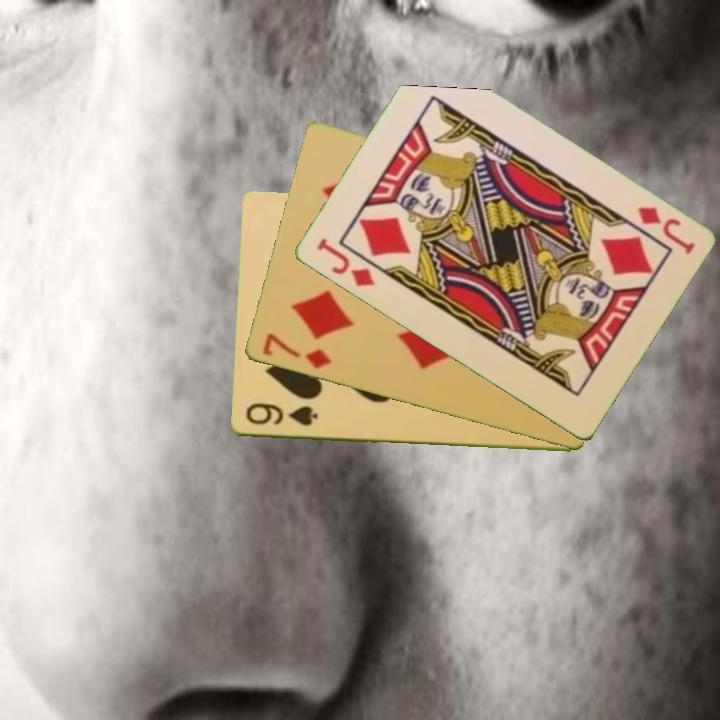7d: (258, 329, 334, 372)
9s: (242, 400, 320, 429)
Jd: (313, 234, 378, 290), (633, 203, 697, 258)
